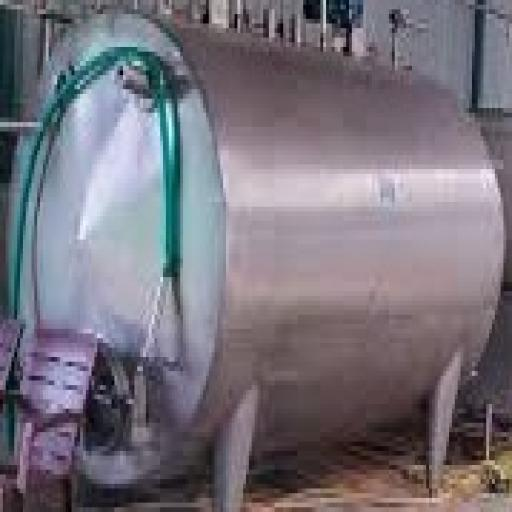silo: (9, 13, 506, 507)
